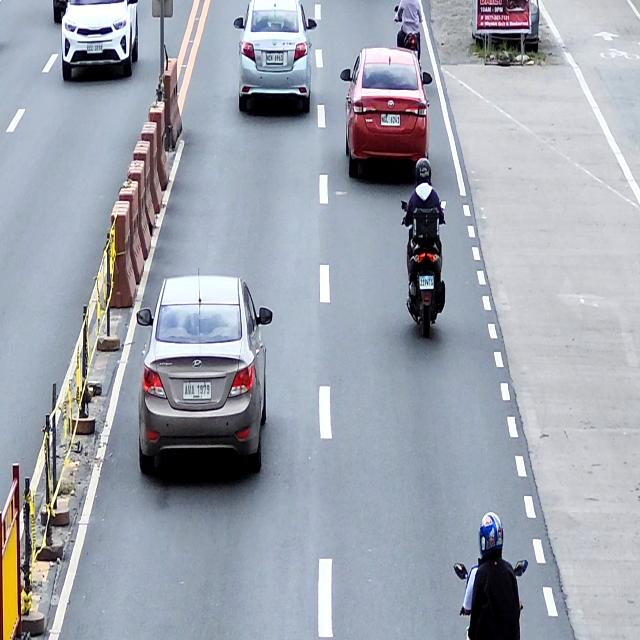Car: (136, 274, 272, 476), (341, 46, 434, 178), (233, 0, 318, 119), (61, 0, 139, 81)
License-Plate: (183, 381, 211, 399), (381, 114, 400, 126), (419, 275, 434, 289), (266, 53, 284, 64), (86, 44, 103, 53)
Motorcycle: (402, 199, 446, 337), (394, 5, 422, 62)
